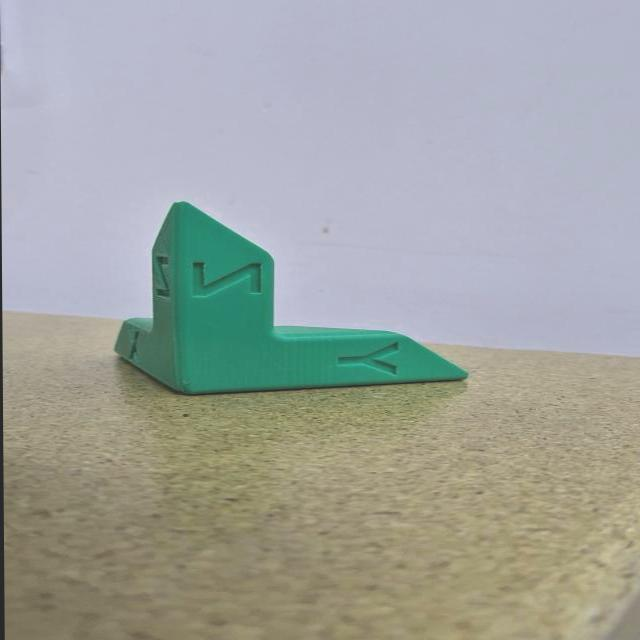eje: (106, 195, 476, 402)
